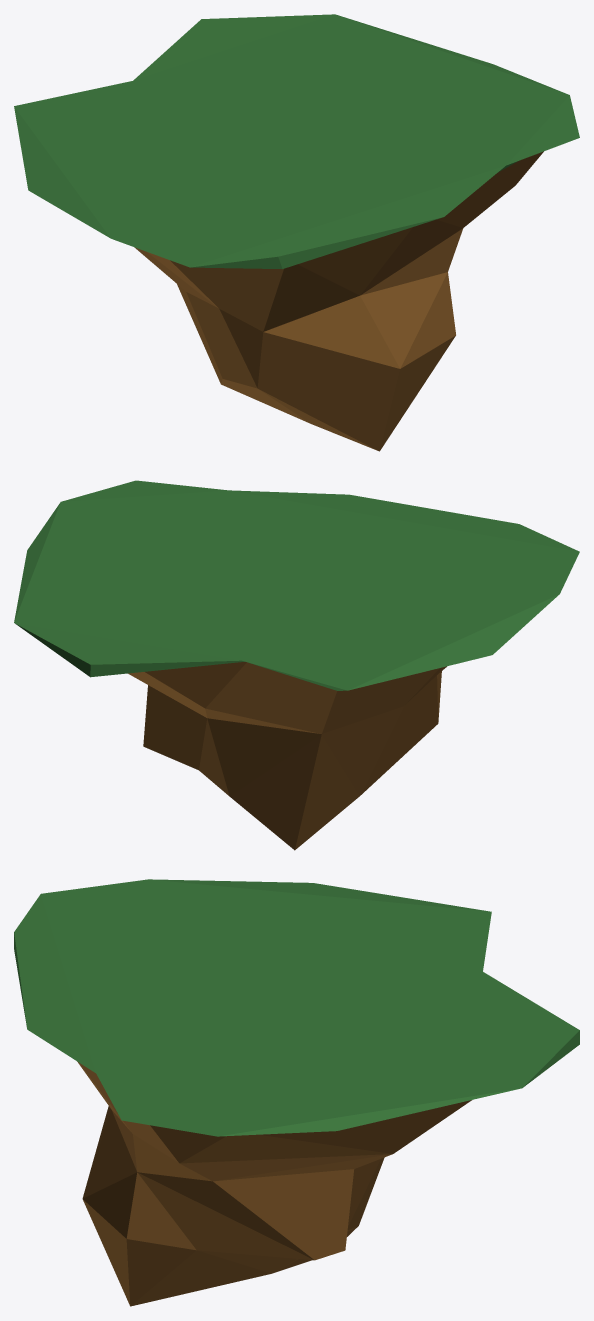
The model's file is mediumIslandLOD1.fbx.
The picture shows the model from 3 angles, top to bottom: view 1: azimuth 30°, elevation 25°; view 2: azimuth 150°, elevation 25°; view 3: azimuth 270°, elevation 25°; orthographic projection. The views are drawn at different scales.
Parts seen in each view (by area): view 1: Cube.004; view 2: Cube.004; view 3: Cube.004.
Part boxes in pixels (left/top/right/bottom): Cube.004: left=14, top=14, right=579, bottom=451; Cube.004: left=14, top=480, right=579, bottom=850; Cube.004: left=14, top=879, right=579, bottom=1306.
Bounding box in the file's own units: 547 × 286 × 501.
